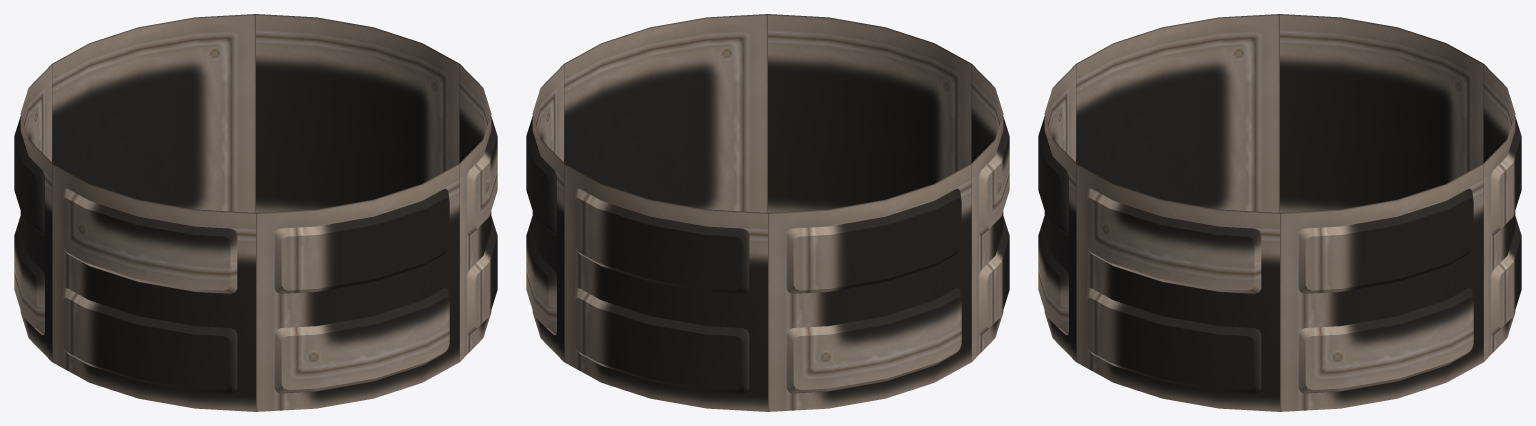
Rendered from cygnus_fuselage_s1p5_1.obj.
3 renders of one model, left to right at view 1: azimuth 30°, elevation 25°; view 2: azimuth 150°, elevation 25°; view 3: azimuth 270°, elevation 25°, orthographic.
Parts seen in each view (by area): view 1: mesh1; view 2: mesh1; view 3: mesh1.
Part boxes in pixels (box(x1,y1,x2,y2)): mesh1: box(14, 14, 497, 411); mesh1: box(526, 14, 1009, 411); mesh1: box(1038, 14, 1521, 411).
Size of the model in its own units: 1.9 by 0.875 by 1.93.
Materials: 1 (1 with a texture image).
